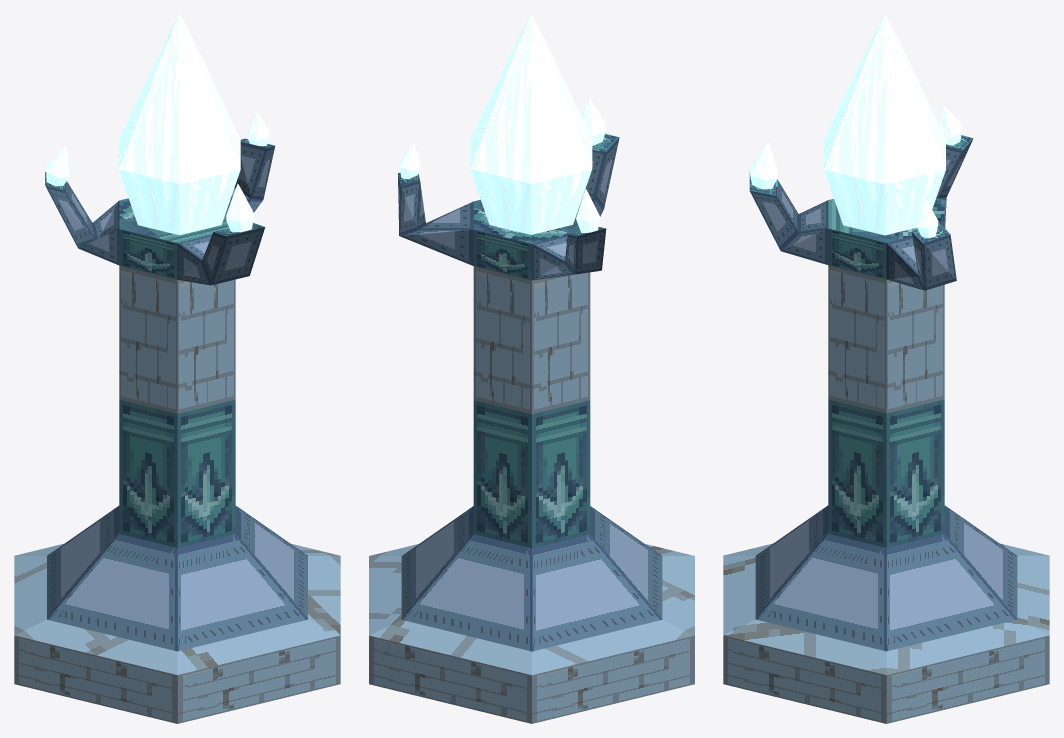
File: slow.glb
The picture shows the model from 3 angles, left to right: view 1: azimuth 30°, elevation 25°; view 2: azimuth 150°, elevation 25°; view 3: azimuth 270°, elevation 25°; orthographic projection.
Parts seen in each view (by area): view 1: ice tower2, ice crystal, ice crystal2, ice crystal3, ice crystal4; view 2: ice tower2, ice crystal, ice crystal3, ice crystal2, ice crystal4; view 3: ice tower2, ice crystal, ice crystal2, ice crystal3, ice crystal4.
Boxes of the visible parts, x1,y1,x2,y2 form: ice tower2: [14, 138, 340, 723]; ice crystal: [118, 14, 240, 235]; ice crystal2: [226, 183, 254, 232]; ice crystal3: [46, 146, 69, 186]; ice crystal4: [247, 112, 269, 145]; ice tower2: [369, 134, 694, 723]; ice crystal: [470, 14, 592, 234]; ice crystal3: [576, 189, 600, 232]; ice crystal2: [581, 98, 605, 145]; ice crystal4: [399, 141, 420, 179]; ice tower2: [723, 135, 1049, 723]; ice crystal: [824, 14, 945, 235]; ice crystal2: [750, 141, 777, 189]; ice crystal3: [938, 106, 961, 145]; ice crystal4: [917, 198, 938, 237].
Size of the model in its own units: 27.86 by 51.44 by 24.13.
Materials: 5 (5 with a texture image).
